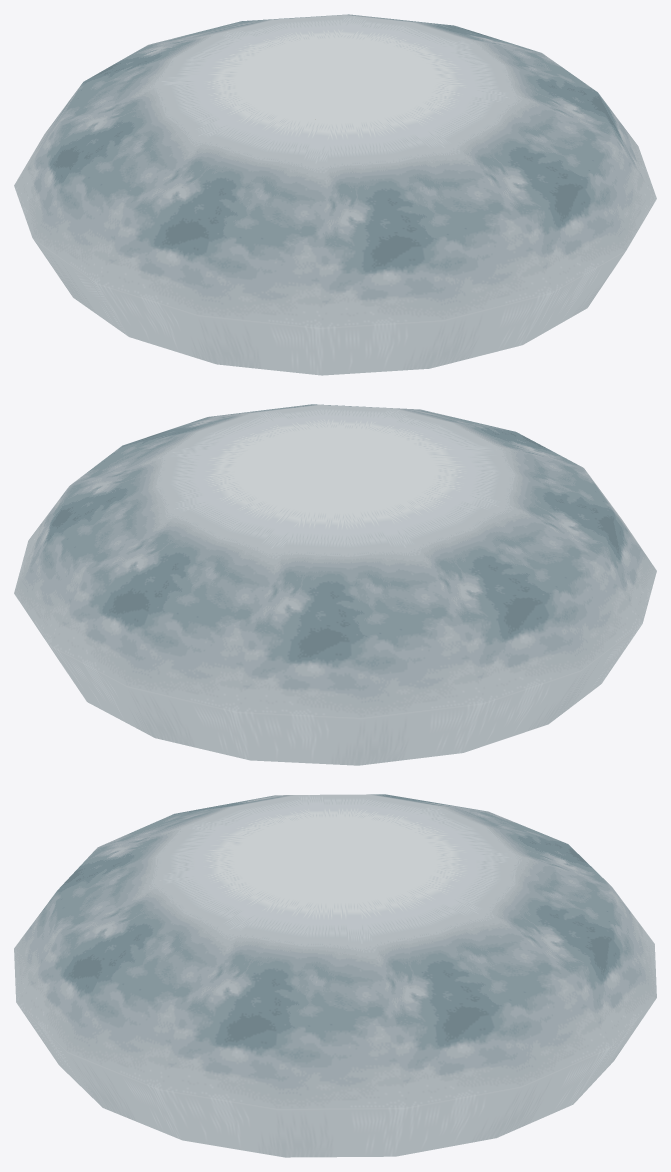
3 views of the same model, one above another, from view 1: azimuth 30°, elevation 25°; view 2: azimuth 150°, elevation 25°; view 3: azimuth 270°, elevation 25° (orthographic).
Bounding box in the file's own units: 114836 × 37745 × 114836.
Materials: 32 (32 with a texture image).
